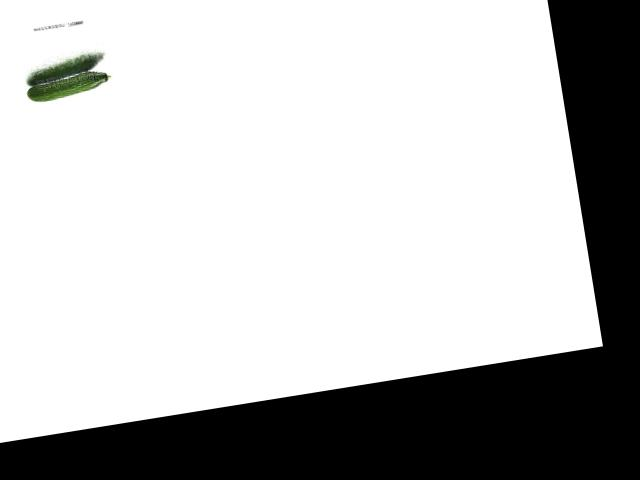cucumber: (26, 67, 113, 103)
